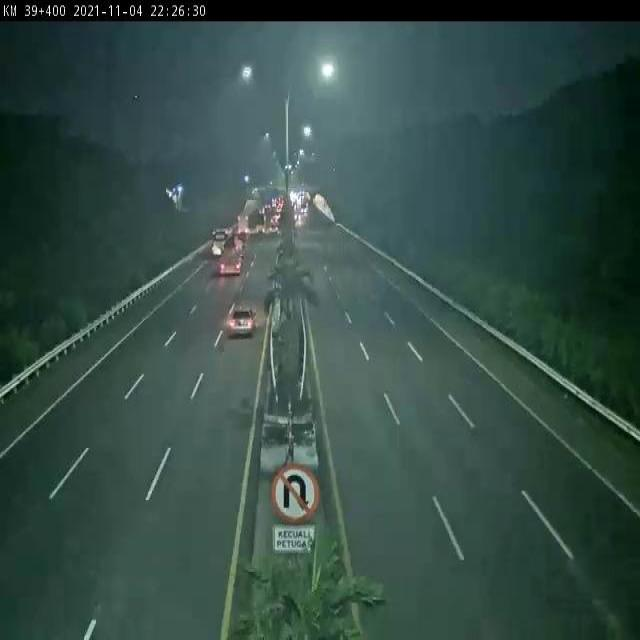bus-l-: (203, 217, 232, 267)
car: (207, 288, 265, 351)
truck-xl-: (209, 237, 250, 284)
